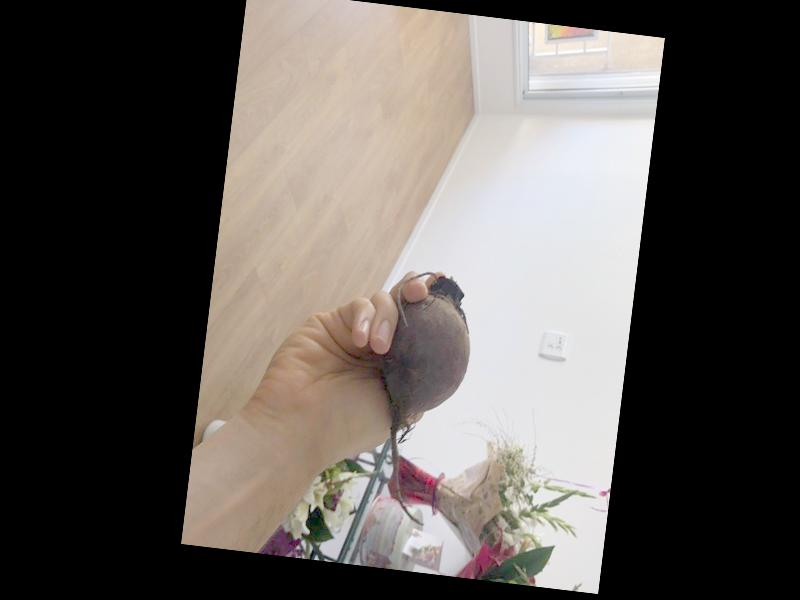Beet: (362, 267, 478, 528)
